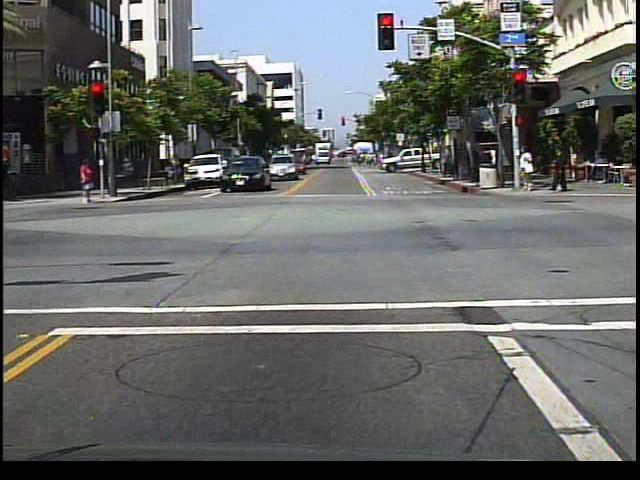person: (80, 156, 101, 208), (517, 143, 538, 194), (549, 144, 570, 193)
